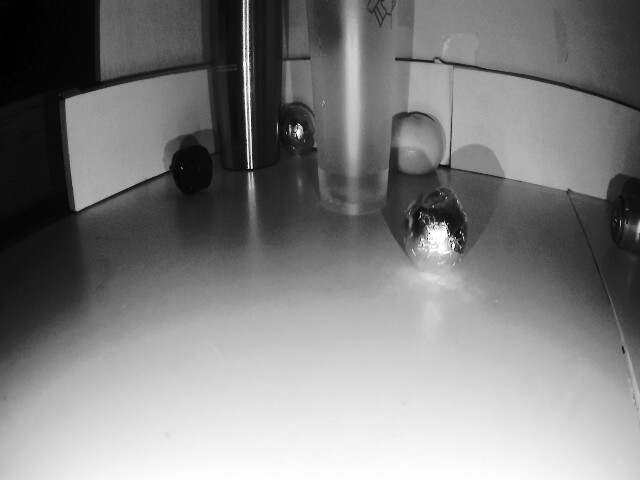black: (400, 189, 479, 287), (274, 105, 315, 152)
silver: (170, 139, 216, 196)
